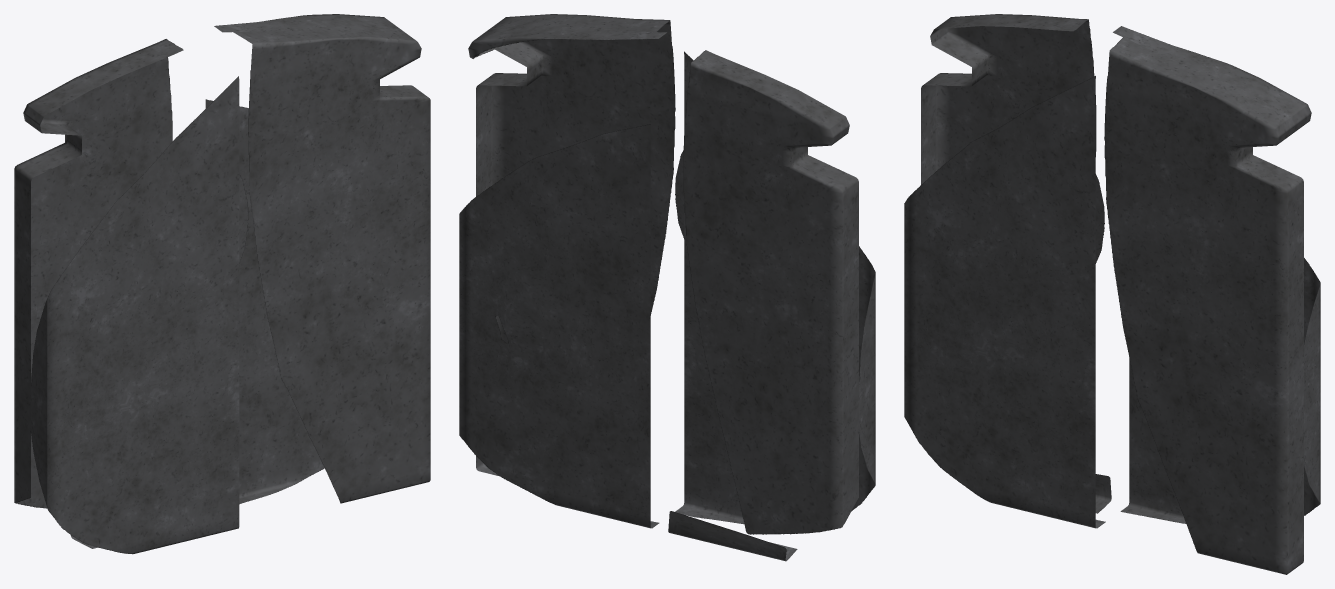
Rendered from stone_09.fbx.
The picture shows the model from 3 angles, left to right: view 1: azimuth 30°, elevation 25°; view 2: azimuth 150°, elevation 25°; view 3: azimuth 330°, elevation 25°; orthographic projection.
Parts seen in each view (by area): view 1: stone_09; view 2: stone_09; view 3: stone_09.
Part boxes in pixels (left/top/right/bottom): stone_09: left=14, top=14, right=430, bottom=554; stone_09: left=459, top=14, right=875, bottom=561; stone_09: left=904, top=14, right=1320, bottom=574.
Bounding box in the file's own units: 103 × 125 × 15.69.
